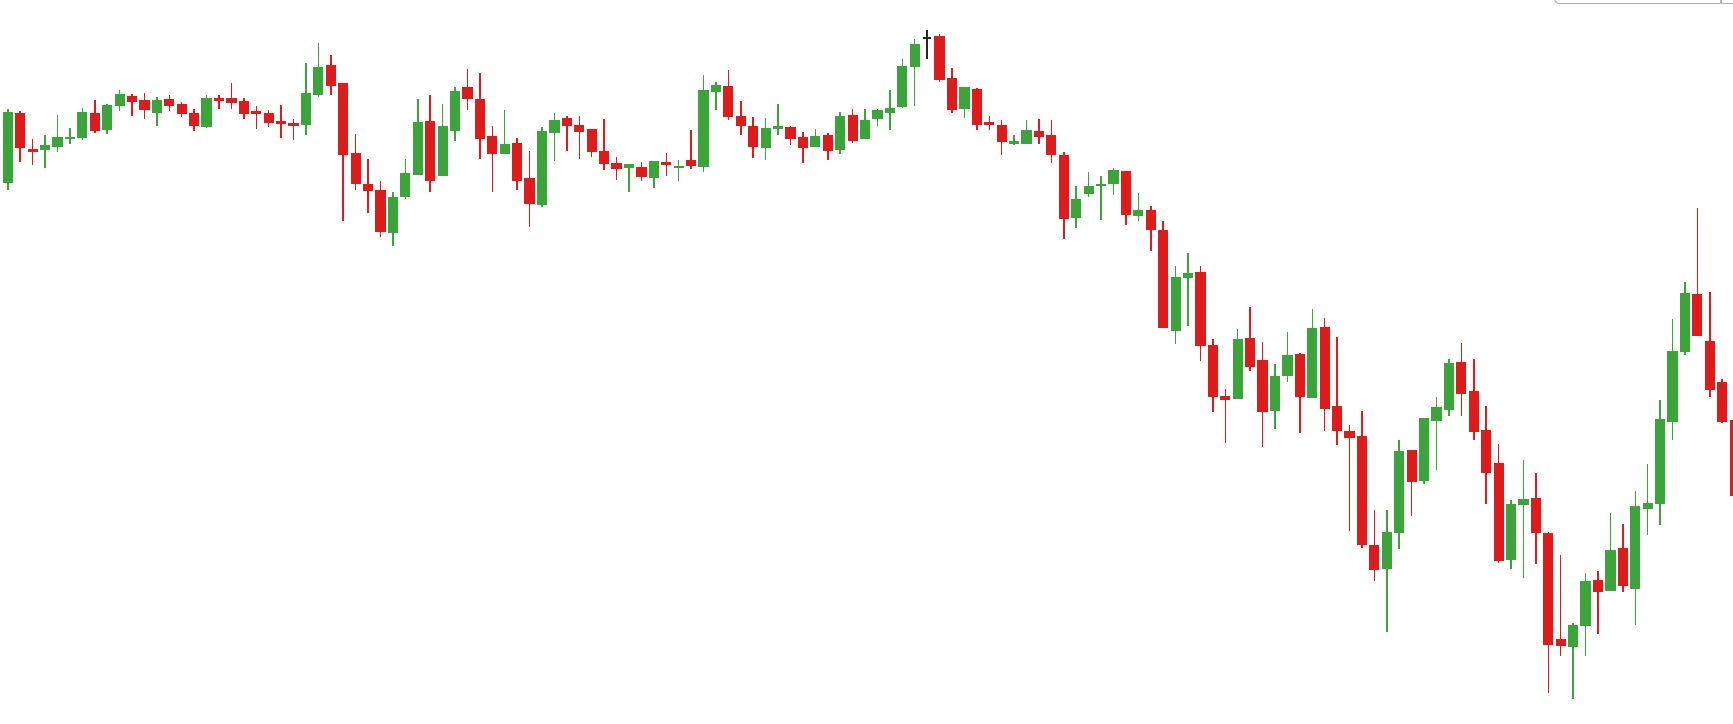sell: (1450, 211, 1718, 471), (720, 31, 947, 122)
